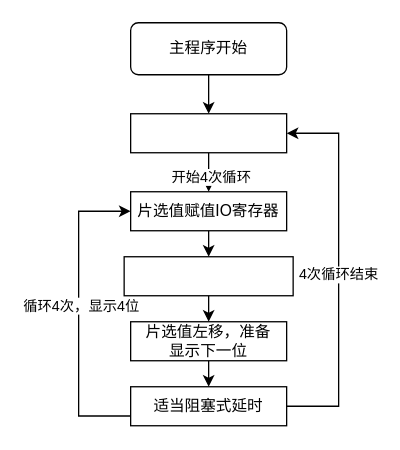
Some shapes in this 400 by 450 pixel diagram are drawn without their labels. The centre of each missing label's shape, as x and y in pixels:
初始化片选值为0x01: pixel 208 132
赋值数码管段选寄存器: pixel 208 275
